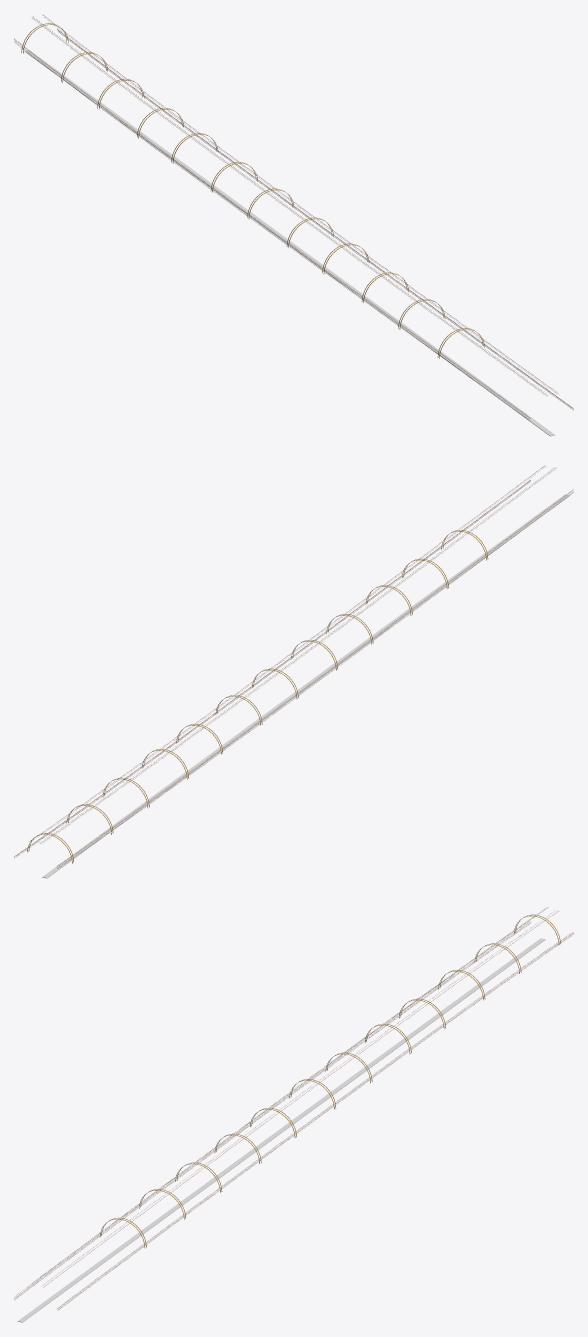
The picture shows the model from 3 angles, top to bottom: view 1: azimuth 30°, elevation 25°; view 2: azimuth 150°, elevation 25°; view 3: azimuth 330°, elevation 25°; orthographic projection.
Visible parts, largest first — view 1: 线网1, 轨旁底座, 环形线网; view 2: 线网1, 轨旁底座, 环形线网; view 3: 线网1, 轨旁底座, 环形线网.
Part boxes in pixels (left/top/right/bottom): 线网1: left=14, top=15, right=573, bottom=420; 轨旁底座: left=24, top=50, right=554, bottom=436; 环形线网: left=21, top=23, right=484, bottom=358; 线网1: left=14, top=466, right=573, bottom=868; 轨旁底座: left=42, top=494, right=569, bottom=878; 环形线网: left=27, top=530, right=488, bottom=863; 线网1: left=14, top=907, right=573, bottom=1310; 轨旁底座: left=17, top=938, right=545, bottom=1322; 环形线网: left=100, top=914, right=560, bottom=1247.
Size of the model in its own units: 32.83 by 22.13 by 626.
